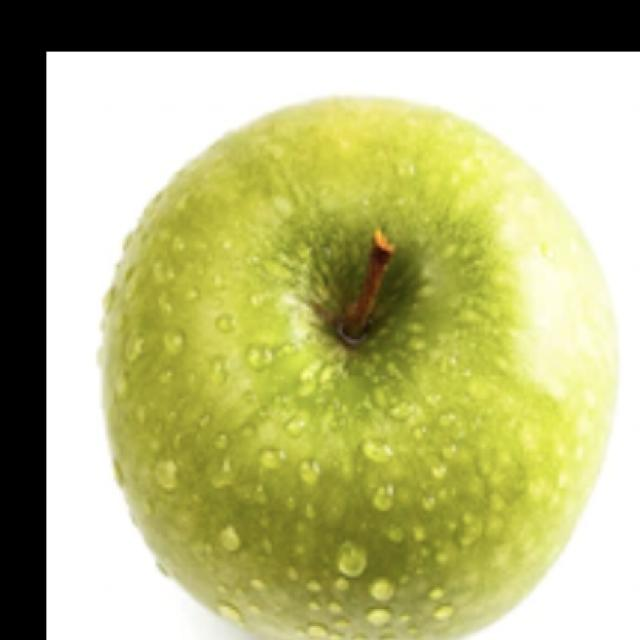Fresh Apple: (118, 113, 602, 615)
